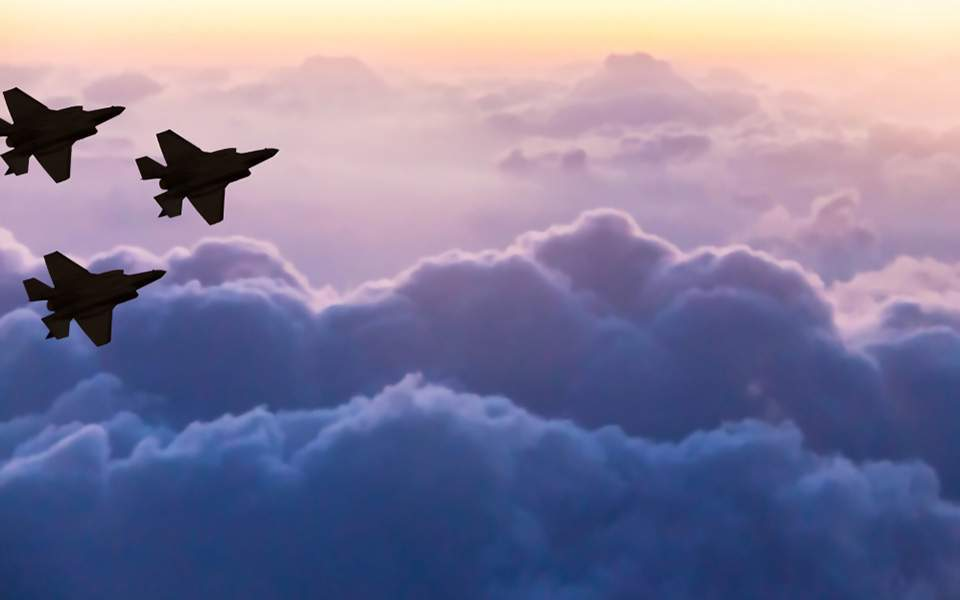F-35 Lightning: (131, 124, 291, 237), (20, 247, 179, 358), (1, 75, 129, 194)
